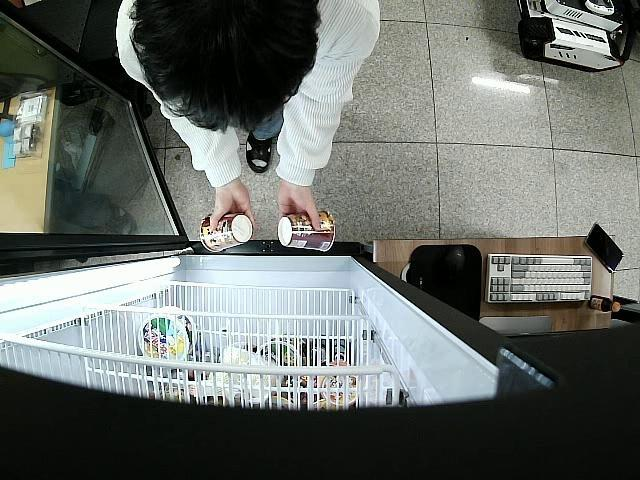06_nuguri_S: (279, 210, 336, 252), (200, 214, 252, 253)
